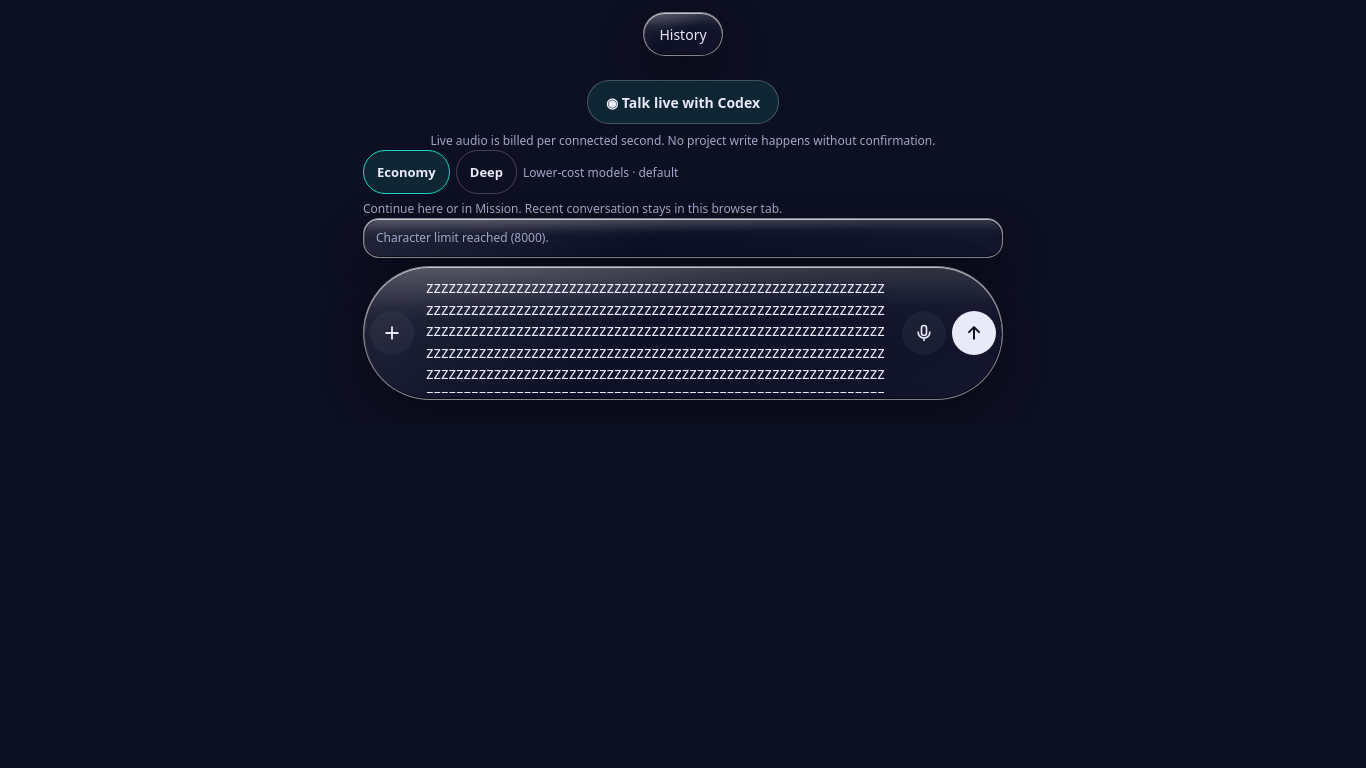
Test: HomeTab never cuts a question silently › blocks Prompt help when the text no longer fits, and says why
Click the button named "Open tools": (392, 333) [370,311,414,355]
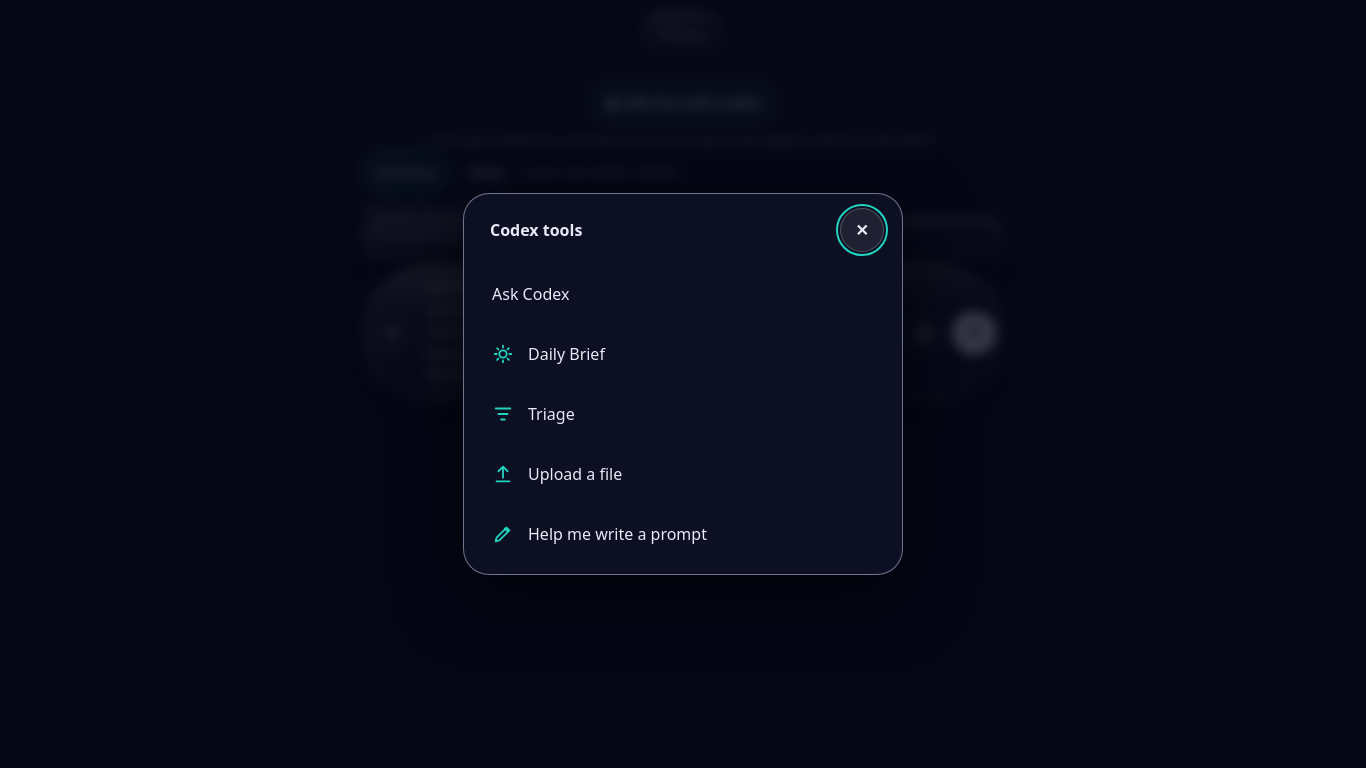
Click the menu item "Help me write a prompt": (683, 534) [476,506,890,562]
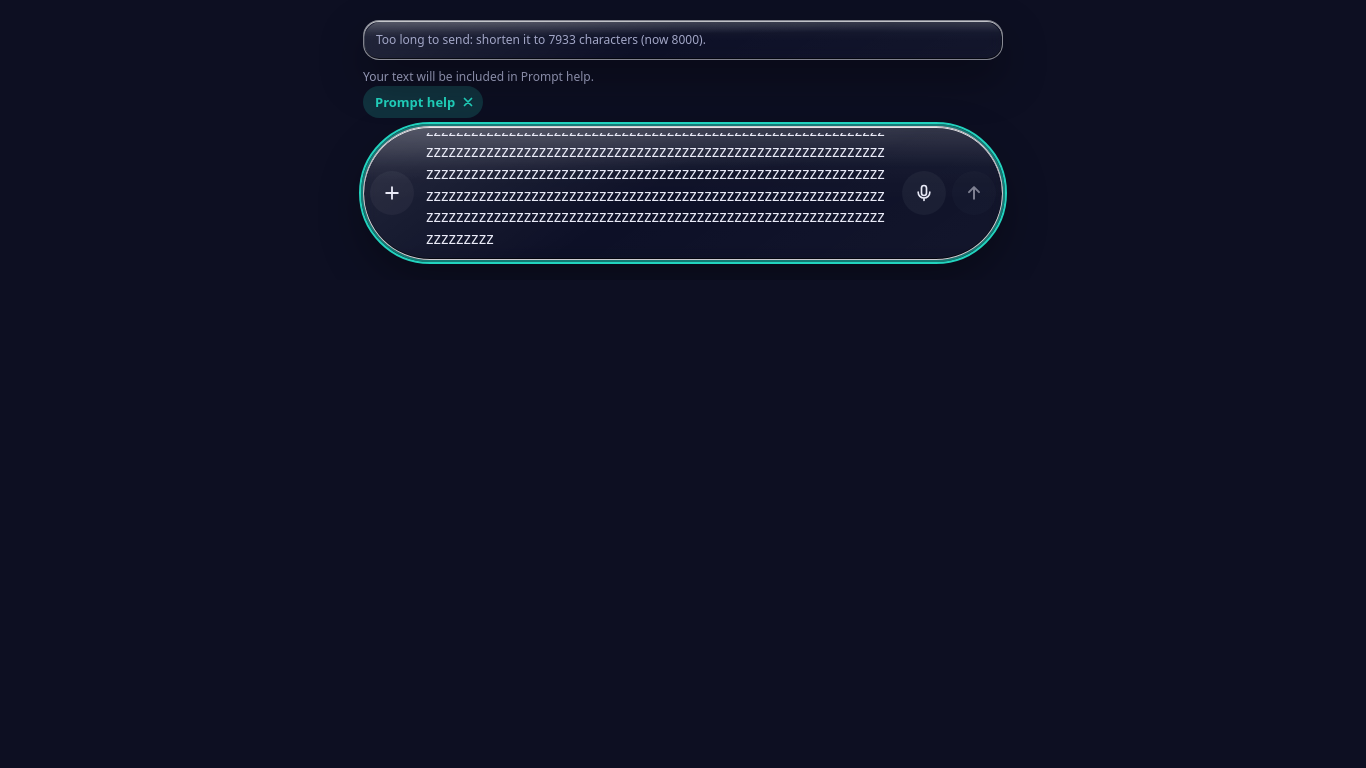
Now the button named "Send" is disabled, box [952,171,996,215]
